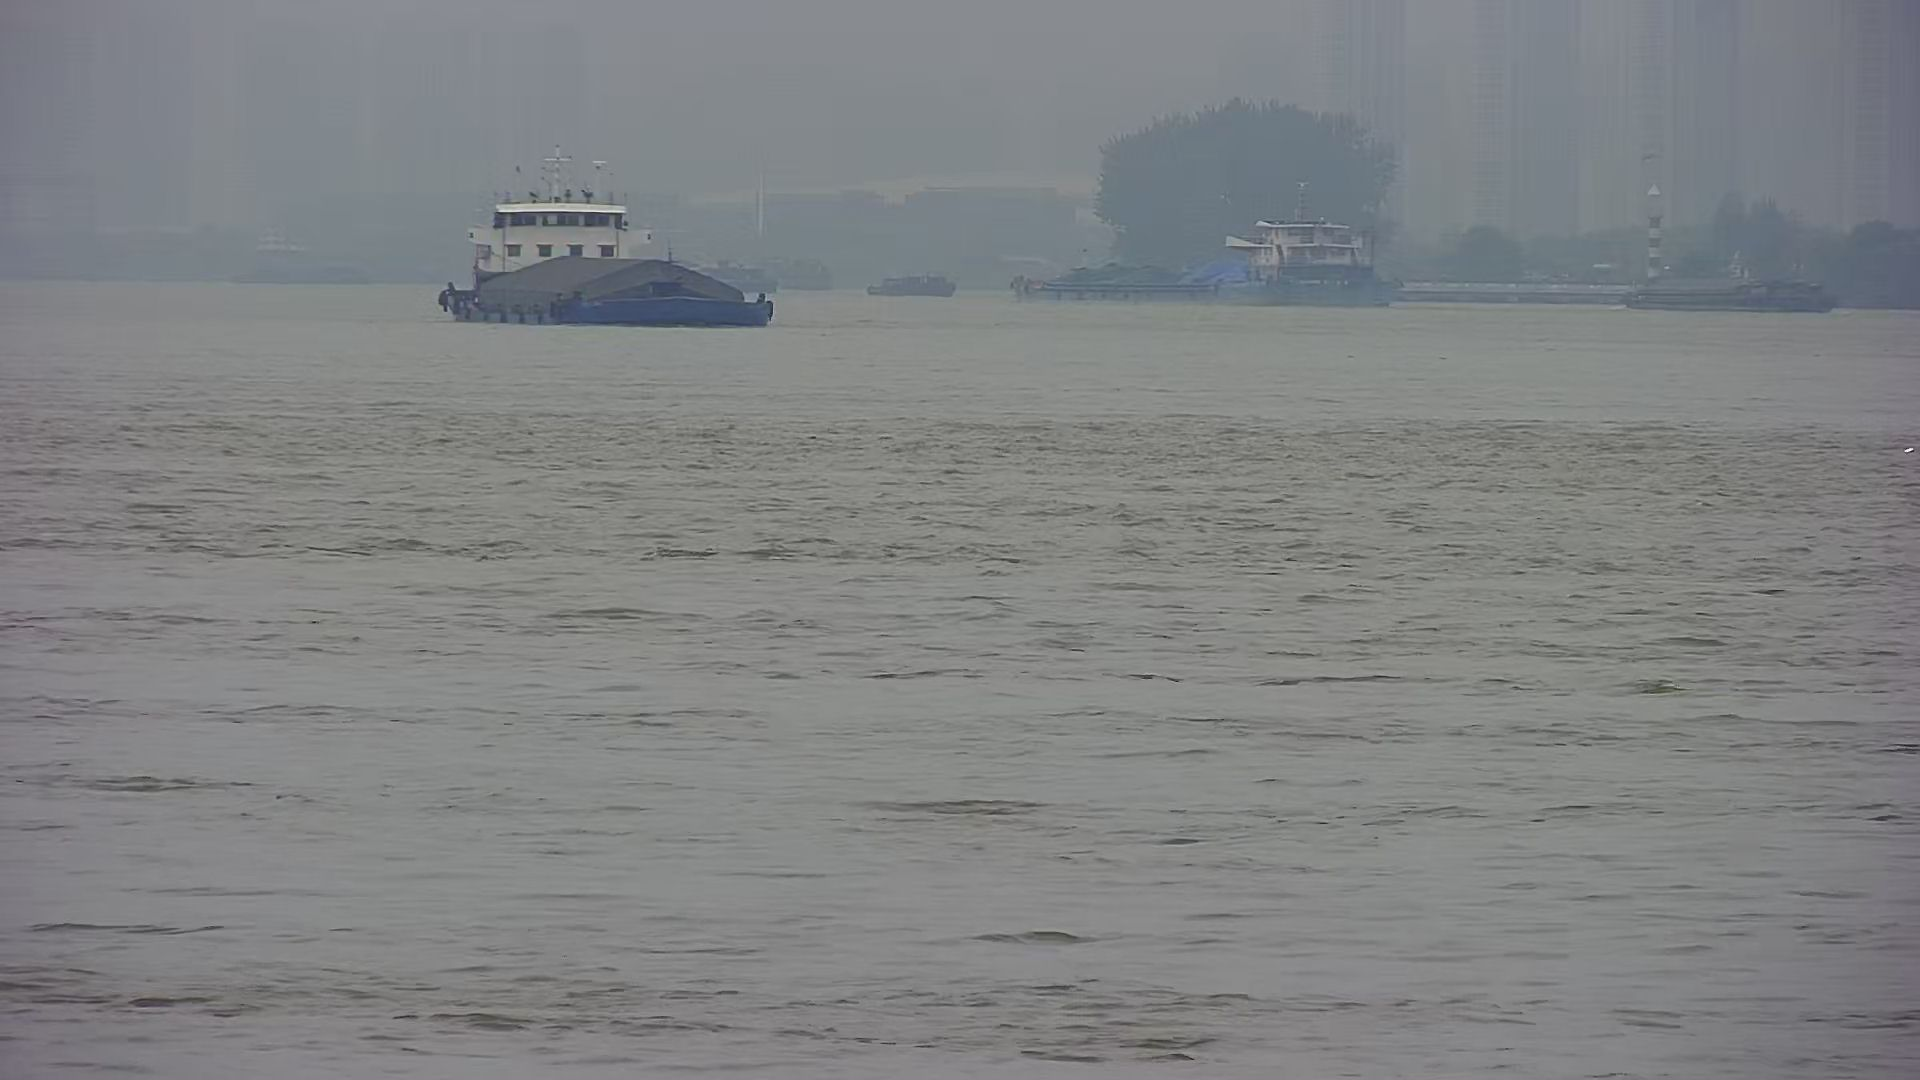ship: (401, 160, 793, 332), (1000, 174, 1411, 305), (1601, 253, 1854, 326), (858, 258, 969, 305)
